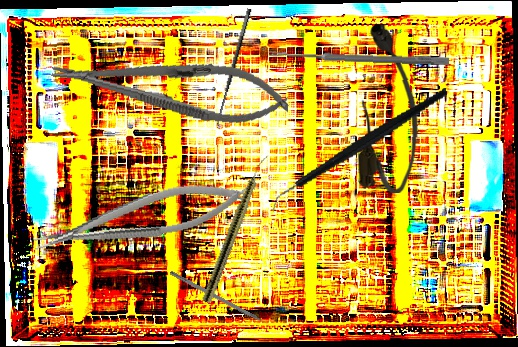Cannula: (357, 23, 420, 194)
Chopper: (254, 87, 465, 215)
Handpiece: (201, 151, 270, 305)
Hook Surgical: (168, 270, 276, 331), (212, 7, 261, 129)
Needle Holder: (48, 40, 293, 133), (28, 172, 256, 261)
Surgical Spoon: (268, 49, 450, 66)
